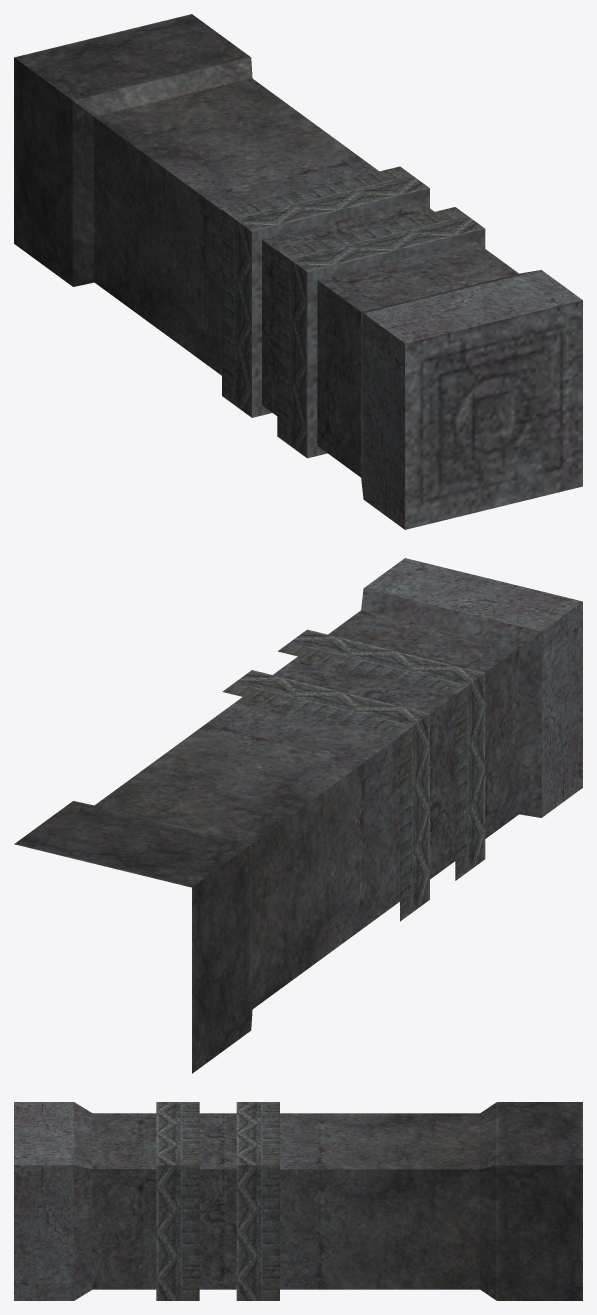
The picture shows the model from 3 angles, top to bottom: view 1: azimuth 30°, elevation 25°; view 2: azimuth 150°, elevation 25°; view 3: azimuth 270°, elevation 25°; orthographic projection. The views are drawn at different scales.
Visible parts, largest first — view 1: model_Object32; view 2: model_Object32; view 3: model_Object32.
Boxes of the visible parts, x1,y1,x2,y2 form: model_Object32: [14, 14, 582, 529]; model_Object32: [14, 558, 582, 1073]; model_Object32: [14, 1102, 582, 1300].
Size of the model in its own units: 0.8443 by 0.8443 by 3.21.
1 material, 1 textured.
